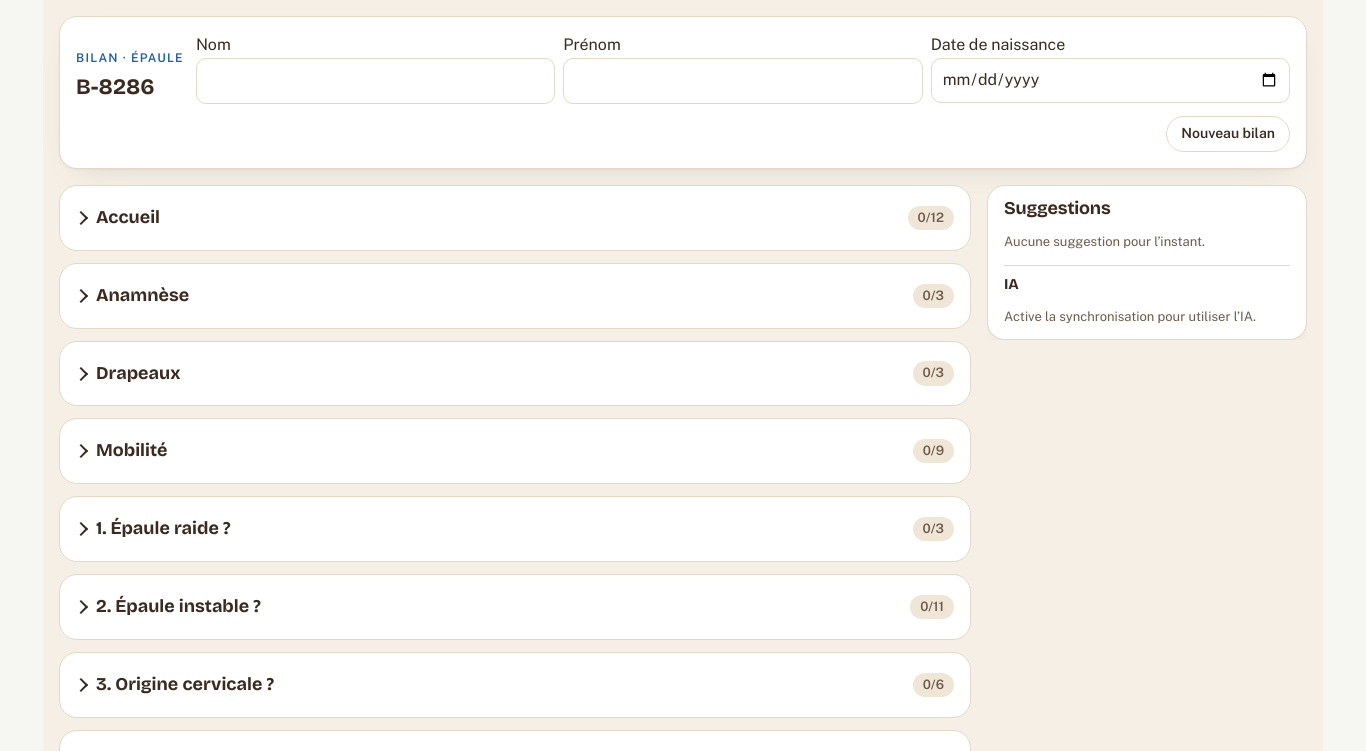
section Accueil (physio) › « Accueil patient » seulement si onStartPatient est fourni
Earlier steps of the test are not shown.
Expected: the text with class "bilan-sec-title" reads "Accueil", [96,206,160,228]
Click the heading "Accueil 0/12".
click(128, 217)  # box [96,206,954,230]
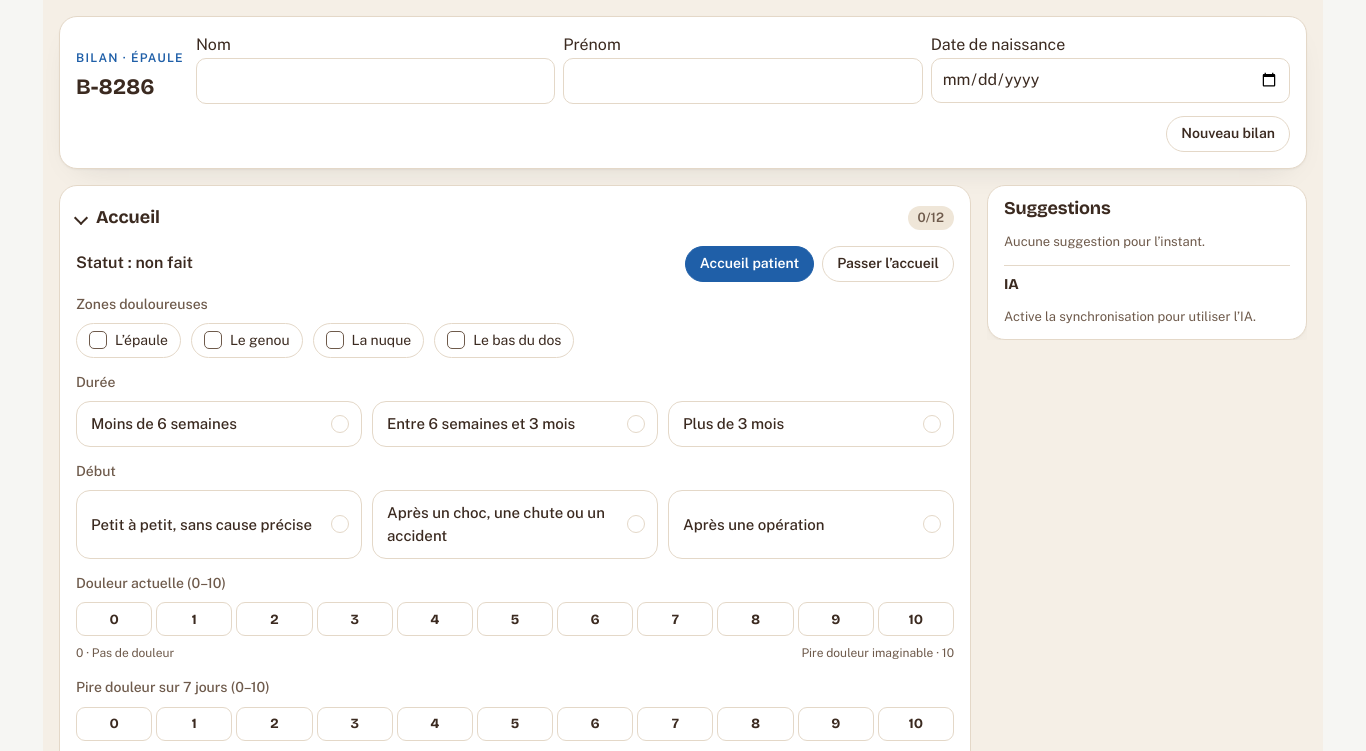
Expected: the button "Accueil patient" is shown, [685,246,814,282]
